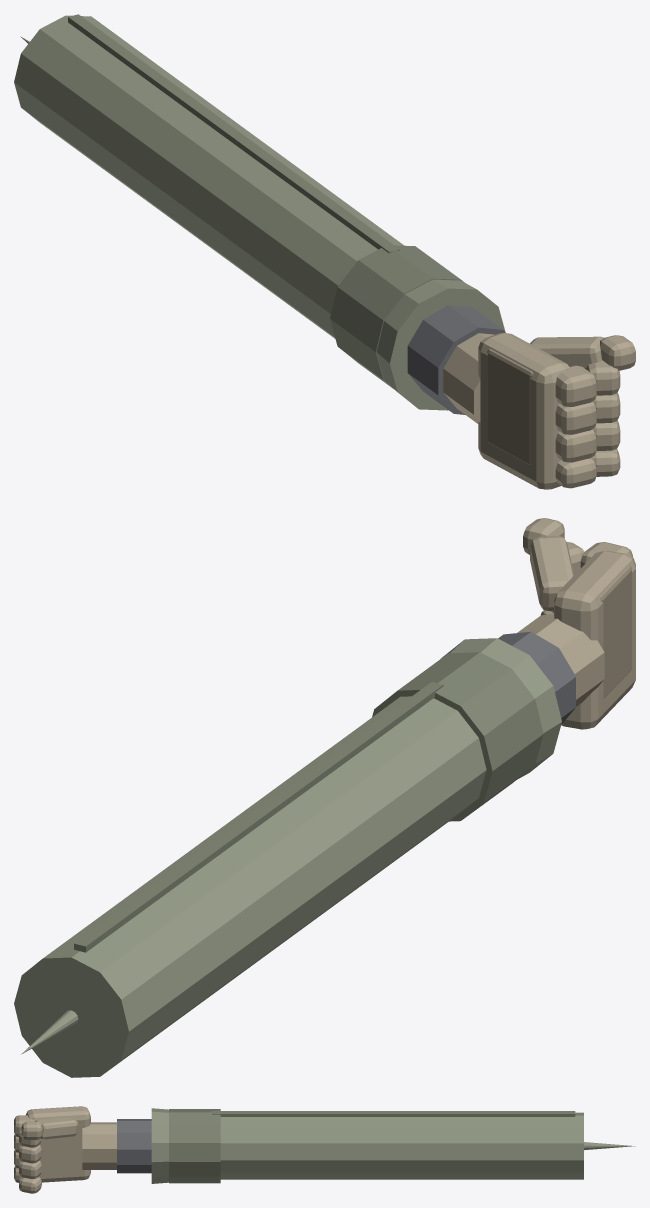
File: fp_arm.fbx
3 renders of one model, top to bottom at view 1: azimuth 30°, elevation 25°; view 2: azimuth 150°, elevation 25°; view 3: azimuth 270°, elevation 25°, orthographic. The views are drawn at different scales.
Visible parts, largest first — view 1: fp_arm; view 2: fp_arm; view 3: fp_arm.
Boxes of the visible parts, box(x1,y1,x2,y2) form: fp_arm: box(14, 14, 635, 489); fp_arm: box(14, 518, 635, 1077); fp_arm: box(14, 1106, 635, 1193).
Bounding box in the file's own units: 0.102 × 0.0955 × 0.719.
